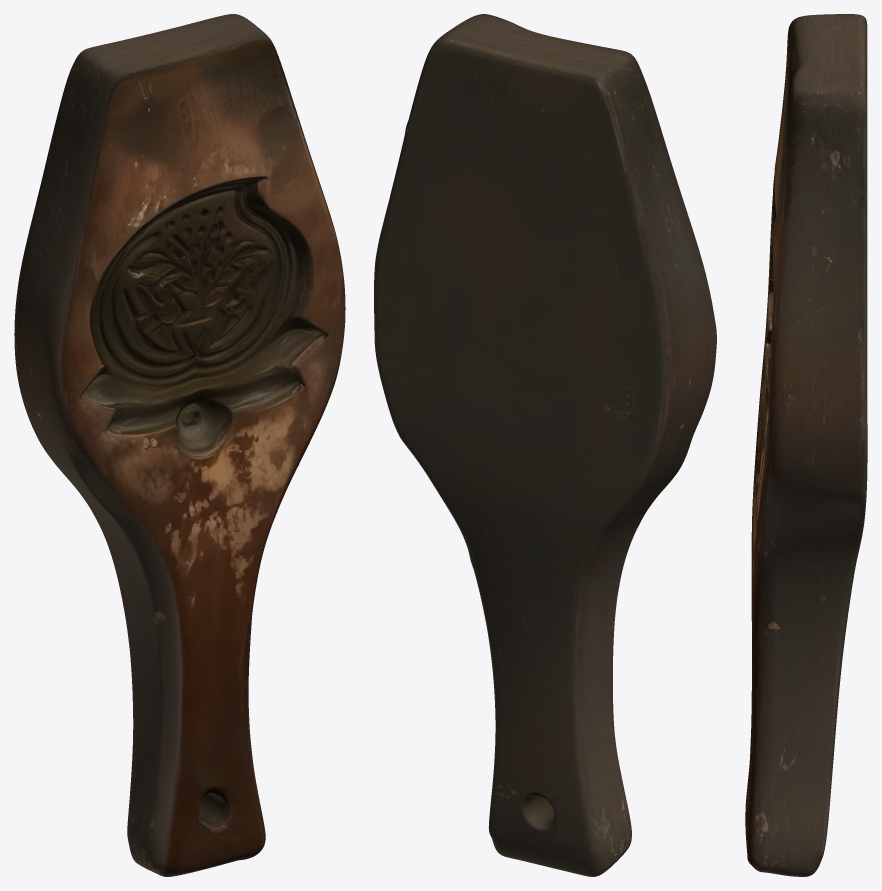
File: tool-muzi.glb
The picture shows the model from 3 angles, left to right: view 1: azimuth 30°, elevation 25°; view 2: azimuth 150°, elevation 25°; view 3: azimuth 270°, elevation 25°; orthographic projection. The views are drawn at different scales.
Visible parts, largest first — view 1: node_0; view 2: node_0; view 3: node_0.
Boxes of the visible parts, x1=… form: node_0: x1=14, y1=14, x2=345, y2=876; node_0: x1=374, y1=14, x2=716, y2=876; node_0: x1=745, y1=14, x2=867, y2=876.
Size of the model in its own units: 0.4469 by 1.17 by 0.1611.
Materials: 1 (1 with a texture image).
